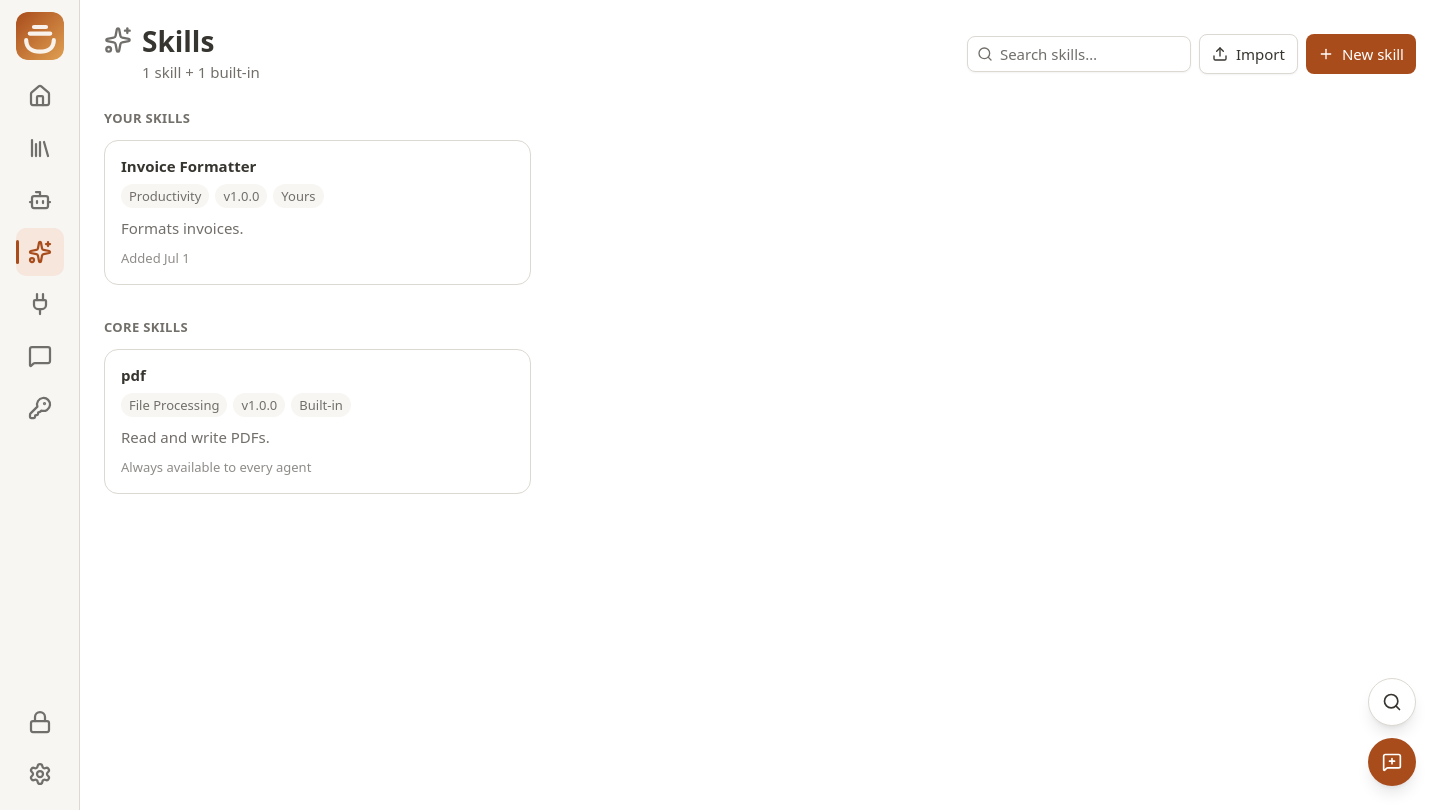
Test: the search box filters both user skills and core skills
The image size is (1440, 810).
Expected: the heading "Invoice Formatter" is shown, left=121, top=156, right=256, bottom=176
In the search field labelled "Search skills…": (1079, 54) left=967, top=36, right=1191, bottom=72, type "invoice"
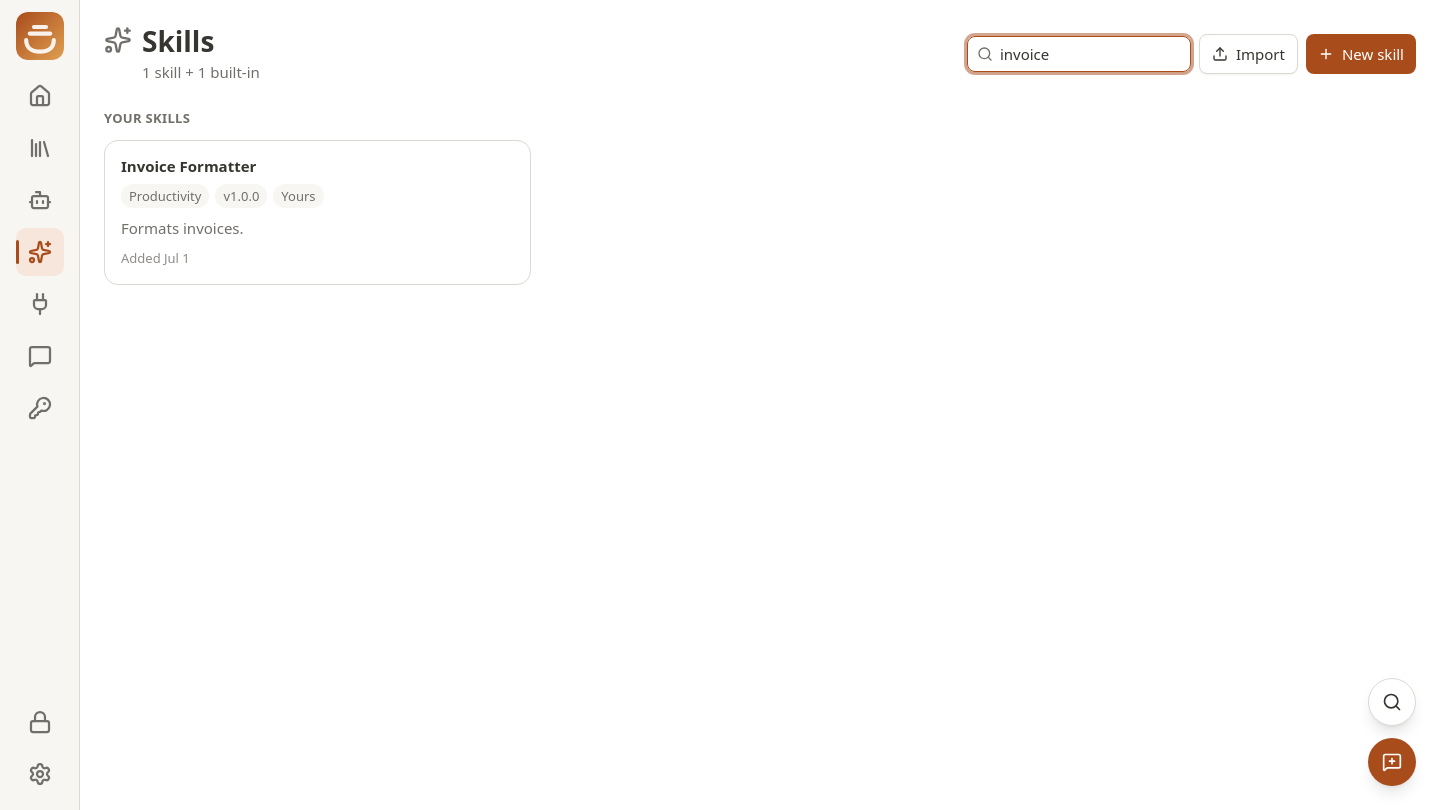
Expected: the heading "Invoice Formatter" is shown, left=121, top=156, right=256, bottom=176
Expected: the heading "Core skills" is gone
Replace the text in the search field named "Search skills" with "zzznomatchzzz": (1079, 54) left=967, top=36, right=1191, bottom=72
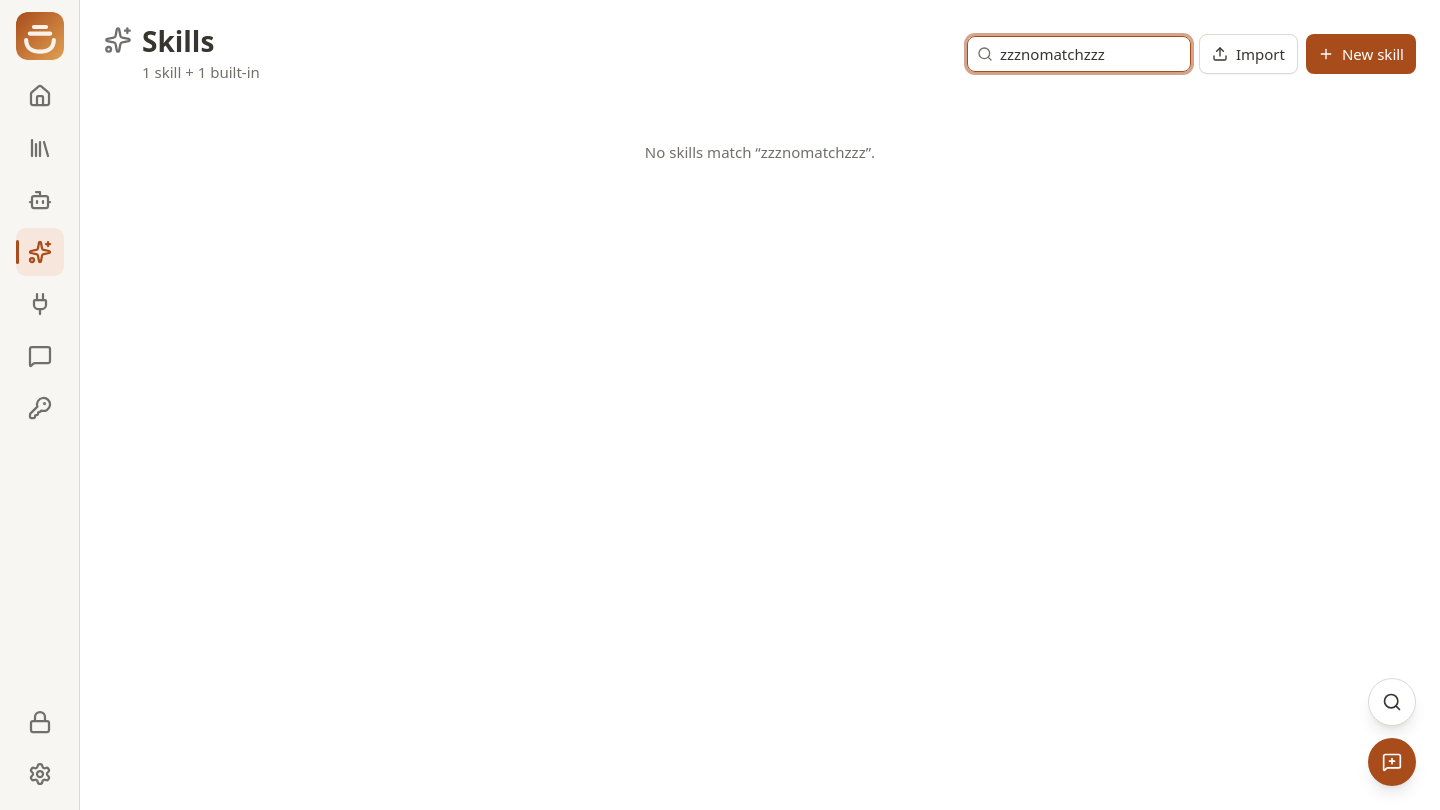
Expected: the text "No skills match “zzznomatchzzz”." is shown, left=645, top=142, right=875, bottom=162
